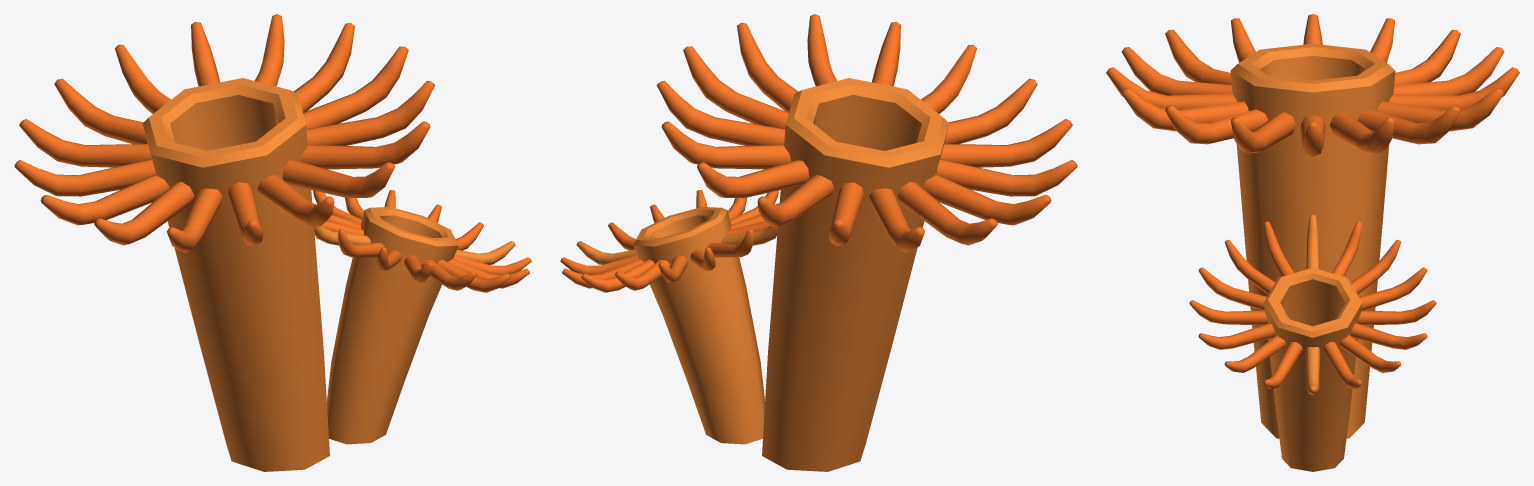
File: Sea_plant_4_1.fbx
The picture shows the model from 3 angles, left to right: view 1: azimuth 30°, elevation 25°; view 2: azimuth 150°, elevation 25°; view 3: azimuth 270°, elevation 25°; orthographic projection. The views are drawn at different scales.
Visible parts, largest first — view 1: Sea_plant_4_1; view 2: Sea_plant_4_1; view 3: Sea_plant_4_1.
Part boxes in pixels (x1,y1,x2,y2): Sea_plant_4_1: [14, 14, 531, 471]; Sea_plant_4_1: [560, 14, 1077, 471]; Sea_plant_4_1: [1106, 14, 1519, 471].
Size of the model in its own units: 1.16 by 0.873 by 0.9111.
